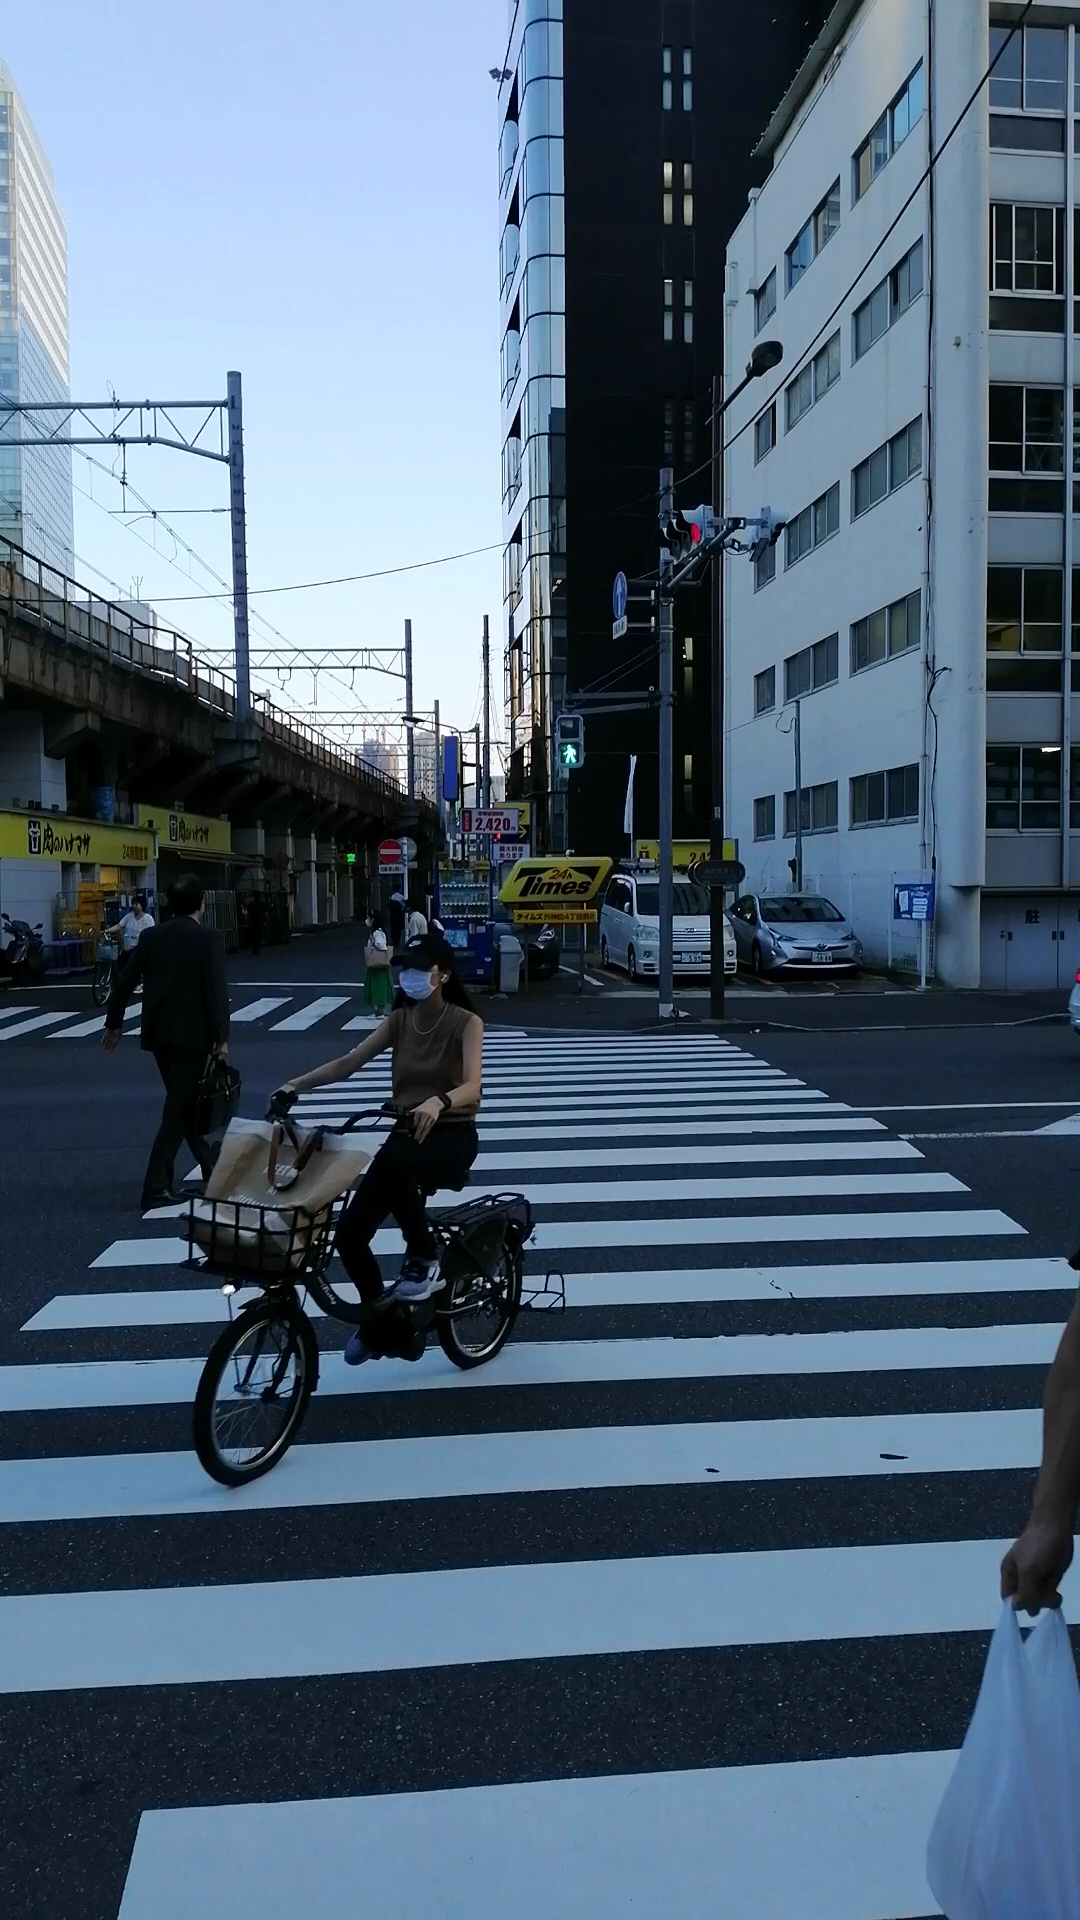green: (553, 713, 585, 769)
